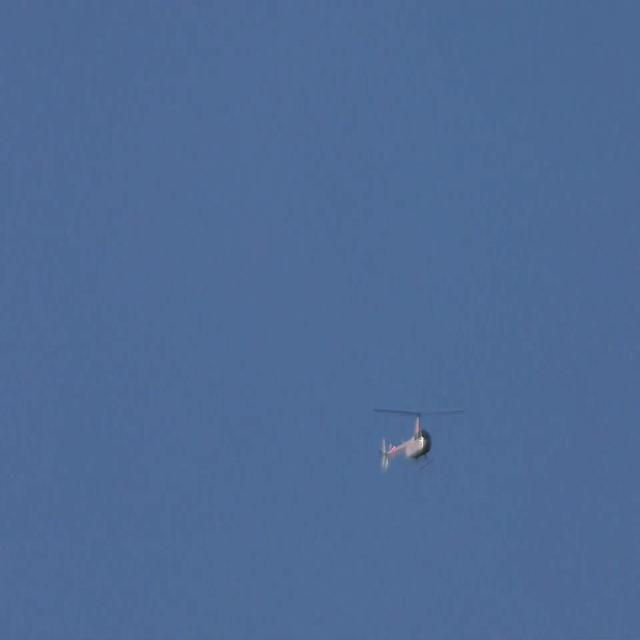CIV_HELO: (379, 408, 435, 477)
